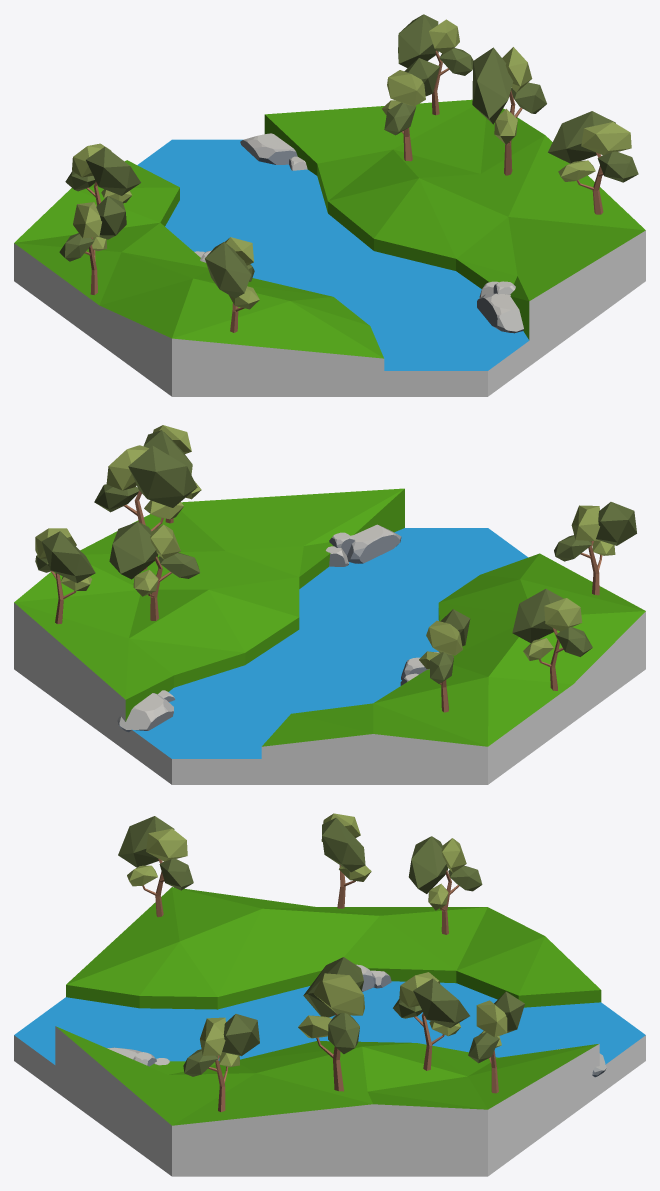
Rendered from River.glb.
The picture shows the model from 3 angles, top to bottom: view 1: azimuth 30°, elevation 25°; view 2: azimuth 150°, elevation 25°; view 3: azimuth 270°, elevation 25°; orthographic projection.
Visible parts, largest first — view 1: Cilindro, tree01.002, tree01.006, tree01.005, tree01.004, tree01, tree01.001, tree01.003, boulder.003, boulder.004; view 2: Cilindro, tree01.006, tree01.001, tree01.004, tree01.003, tree01.005, tree01, boulder.003, tree01.002, boulder.004; view 3: Cilindro, tree01.006, tree01.003, tree01, tree01.002, tree01.001, tree01.004, tree01.005.
Part boxes in pixels (<box>): Cilindro: <box>14,99,645,396</box>; tree01.002: <box>548,111,638,214</box>; tree01.006: <box>472,47,546,175</box>; tree01.005: <box>398,14,473,115</box>; tree01.004: <box>59,196,126,294</box>; tree01: <box>65,143,140,205</box>; tree01.001: <box>382,58,439,161</box>; tree01.003: <box>205,237,259,332</box>; boulder.003: <box>477,293,523,333</box>; boulder.004: <box>240,133,297,164</box>; Cilindro: <box>14,488,645,784</box>; tree01.006: <box>94,445,197,570</box>; tree01.001: <box>109,521,200,620</box>; tree01.004: <box>512,589,592,690</box>; tree01.003: <box>554,502,636,595</box>; tree01.005: <box>35,528,95,624</box>; tree01: <box>419,609,470,712</box>; boulder.003: <box>347,524,401,563</box>; tree01.002: <box>143,425,201,523</box>; boulder.004: <box>117,693,173,732</box>; Cilindro: <box>14,887,645,1176</box>; tree01.006: <box>298,957,364,1091</box>; tree01.003: <box>118,816,193,917</box>; tree01: <box>408,836,482,934</box>; tree01.002: <box>183,1014,259,1111</box>; tree01.001: <box>393,972,469,1070</box>; tree01.004: <box>321,813,371,908</box>; tree01.005: <box>468,991,524,1093</box>.
Bounding box in the file's own units: 27.55 × 9.8 × 30.
5 materials, 2 textured.
